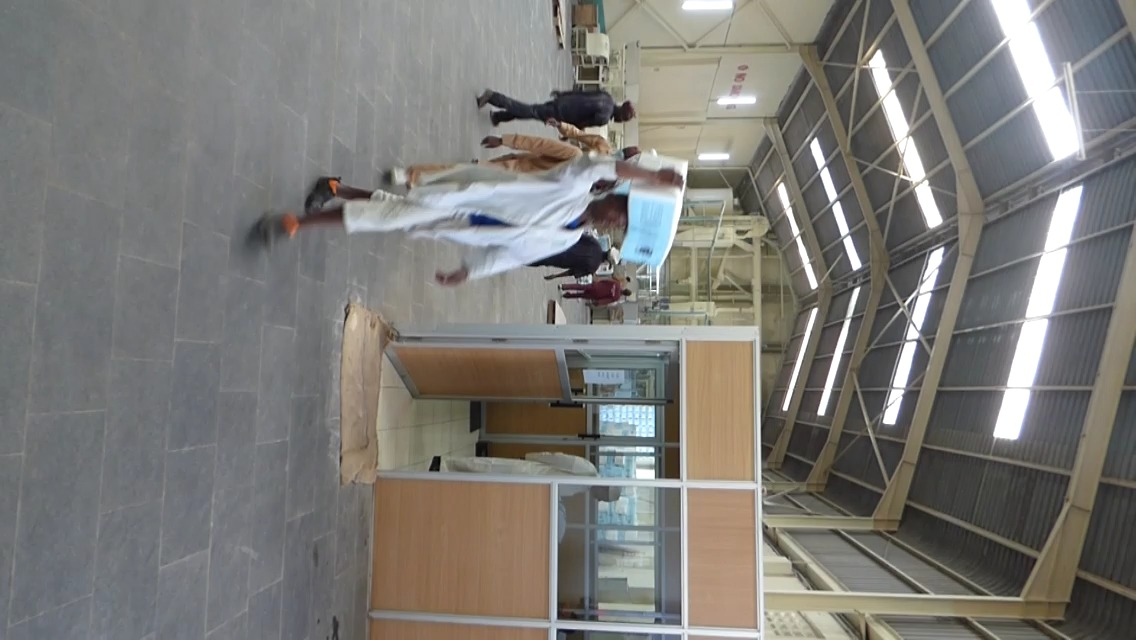wheat_flour_blue_label: (621, 151, 686, 253)
